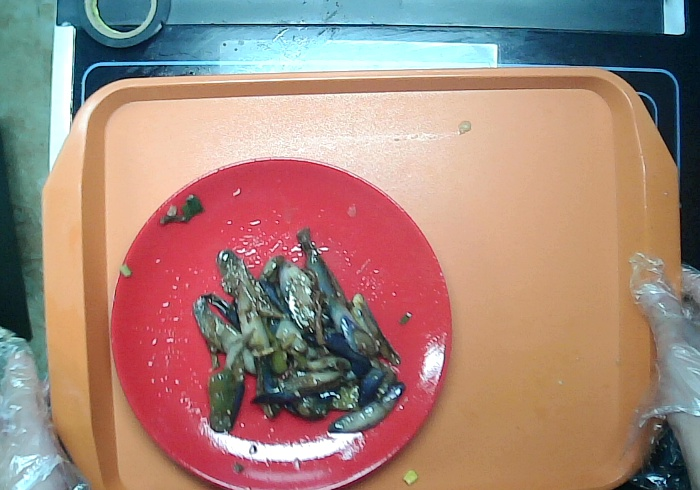HZYJPL-Hong_Se_Yuan_Pan: (95, 124, 465, 490)
